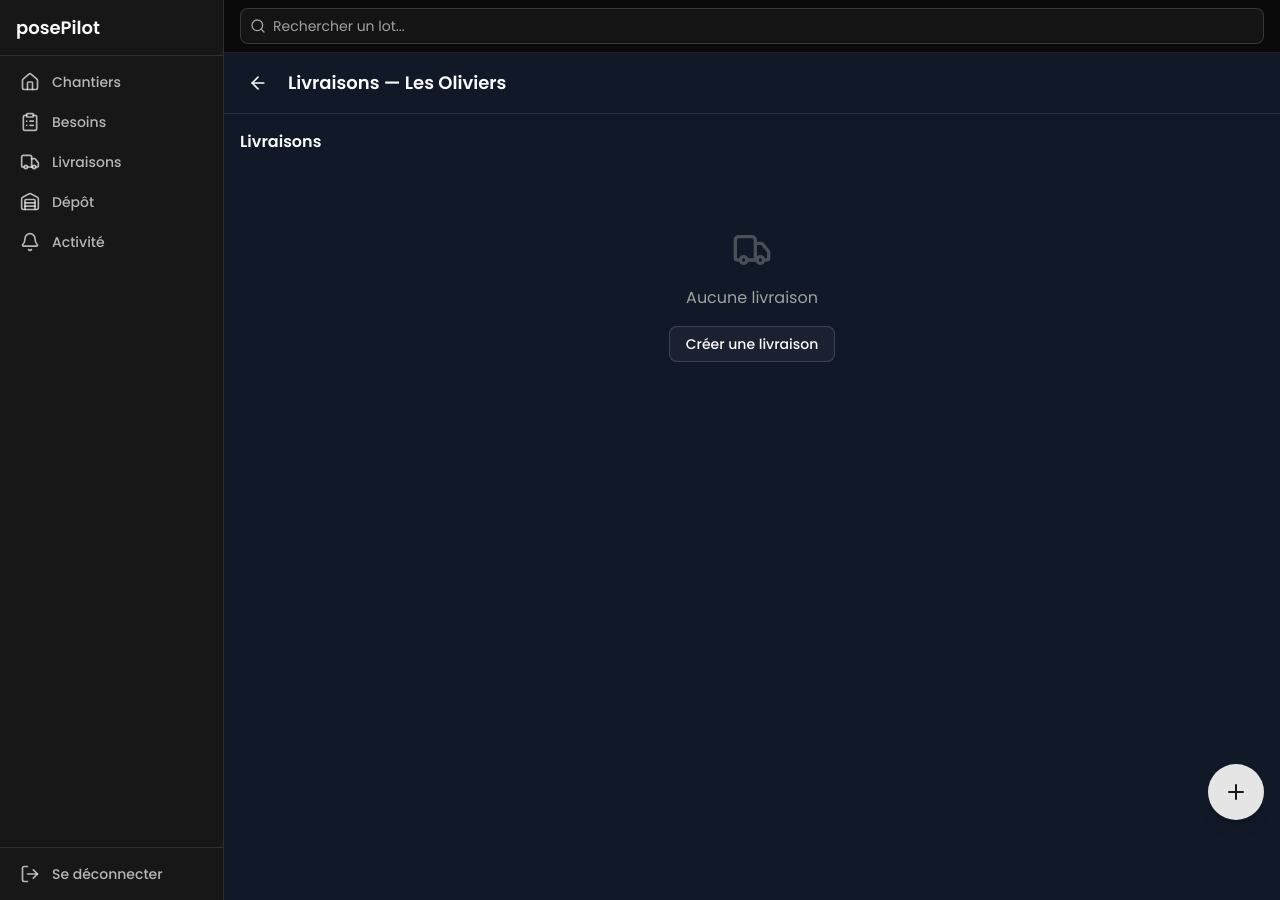
Test case: LivraisonsPage — sheet interactions › shows validation error when submitting empty description
Expected: the text "Aucune livraison" is shown, [686,286,818,310]
What coordinates should you click on to do the following:
click the button named "Ajouter"
I would click on:
 (1236, 792)
Its box is [1208,764,1264,820].
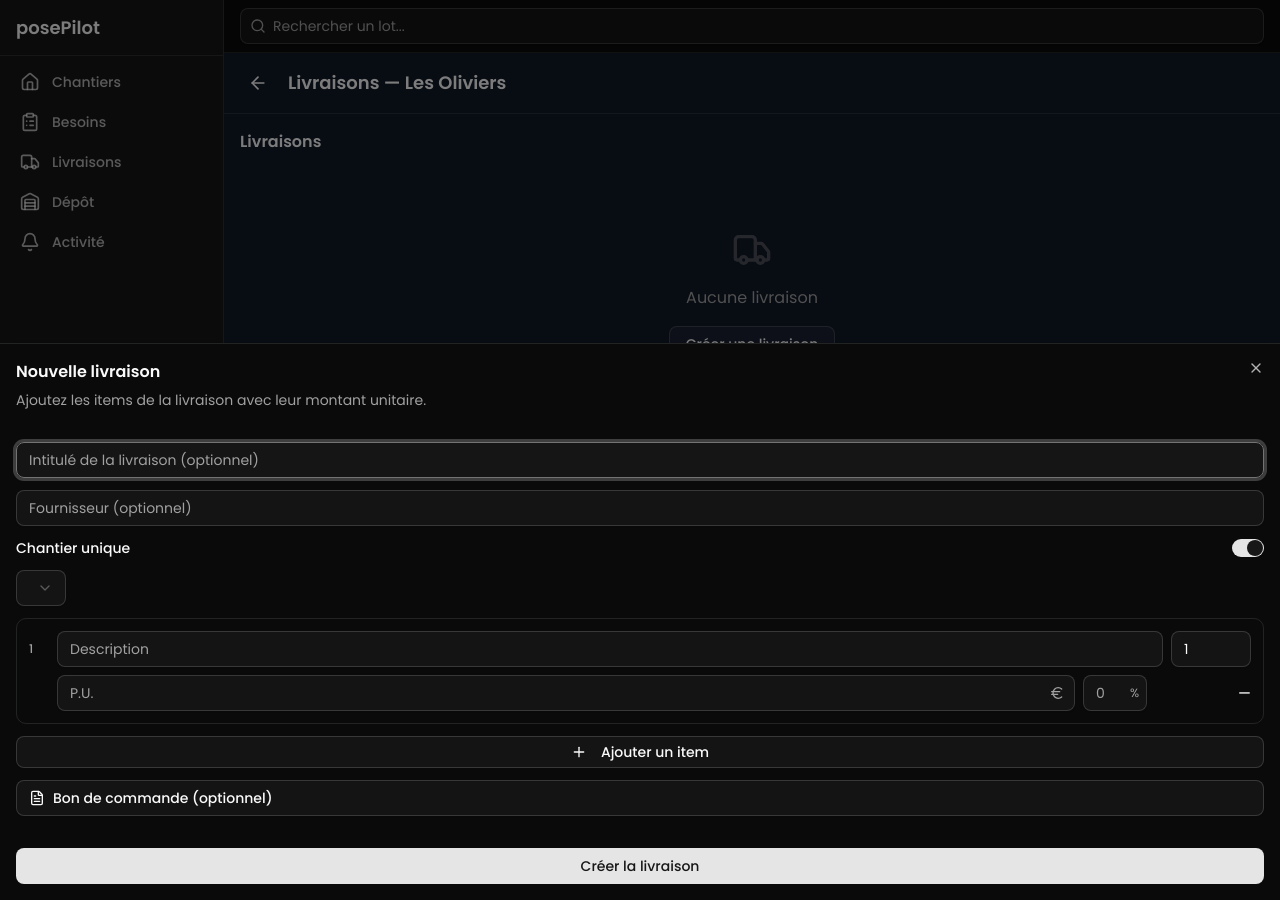
Expected: the heading "Nouvelle livraison" is shown, [16,360,160,383]
What coordinates should you click on to do the following:
click the button "Créer la livraison"
I would click on:
 (640, 866)
Its box is [16,848,1264,884].
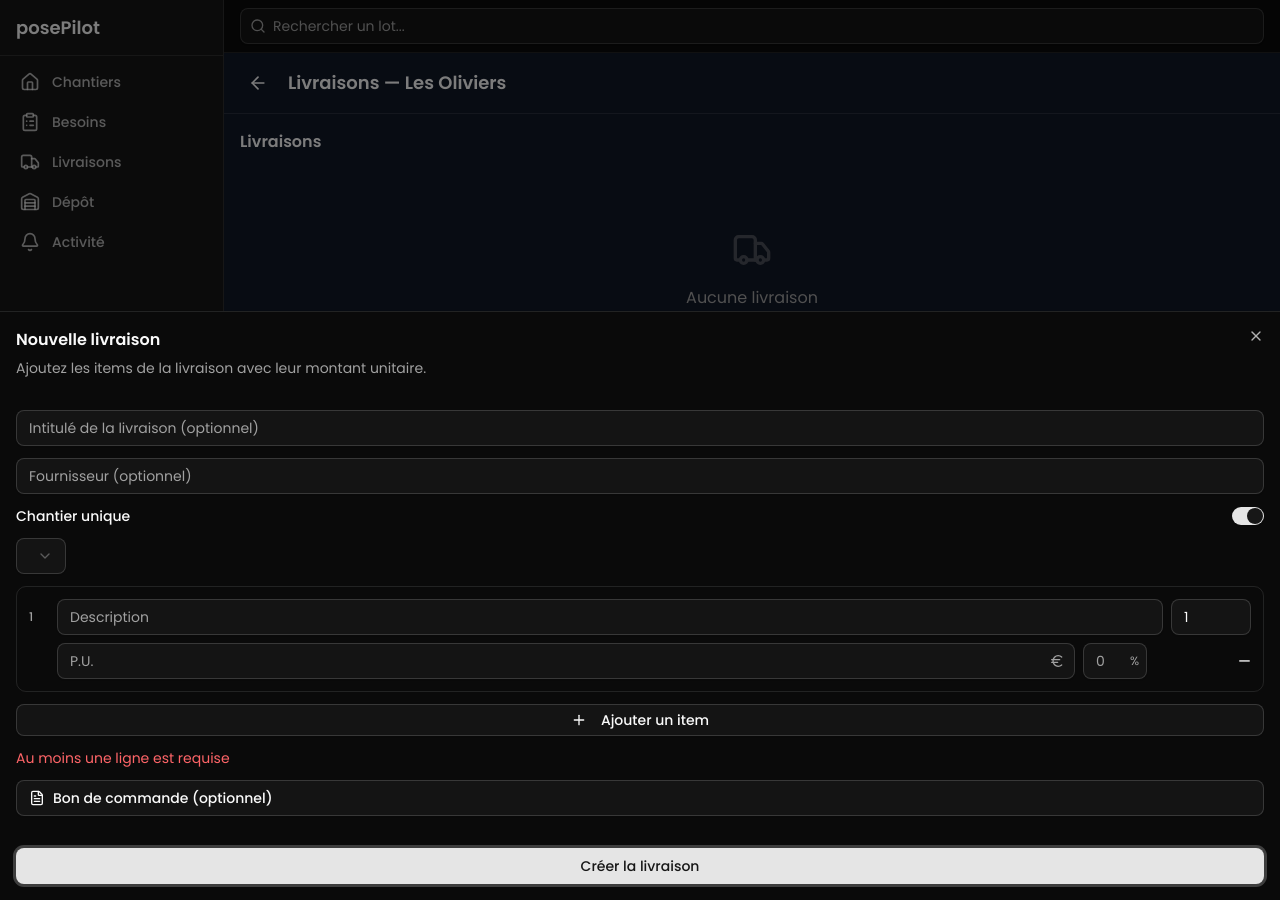
Expected: the text "Au moins une ligne est requise" is shown, [16,748,230,768]
